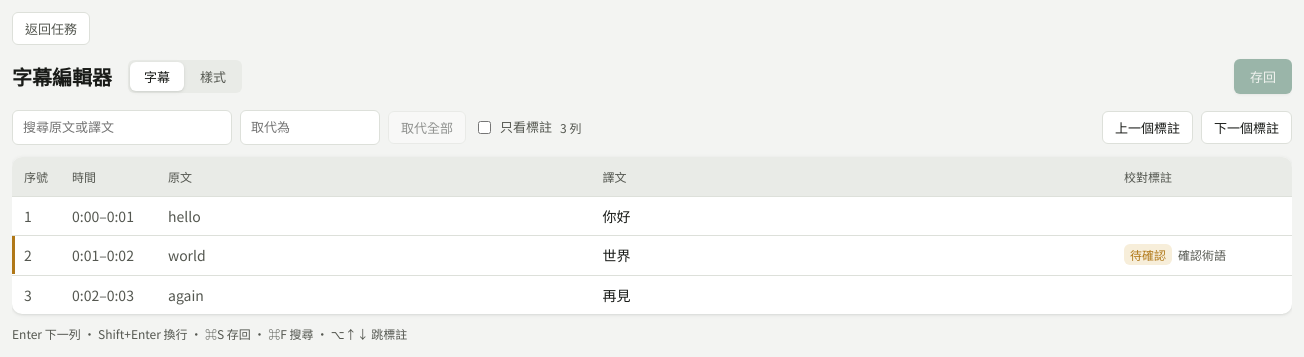
Test: SubtitleEditorView › flagged-only toggle hides unflagged rows
The image size is (1304, 357).
Expected: the text "你好" is shown, x1=602 y1=206 x2=630 y2=226
Click the checkbox labelled "只看標註".
click(484, 127)  # box x1=478 y1=121 x2=491 y2=134
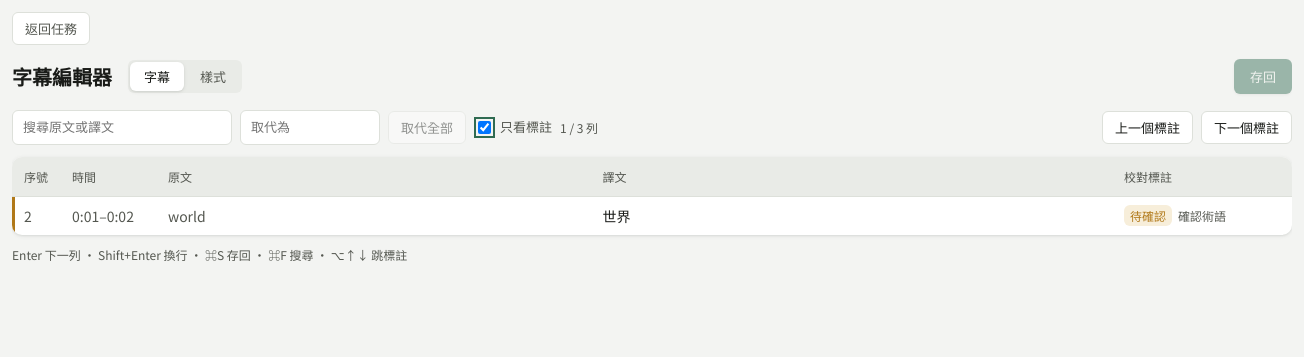
Expected: the text "世界" is shown, x1=602 y1=206 x2=630 y2=226
Result: the text "你好" is gone
